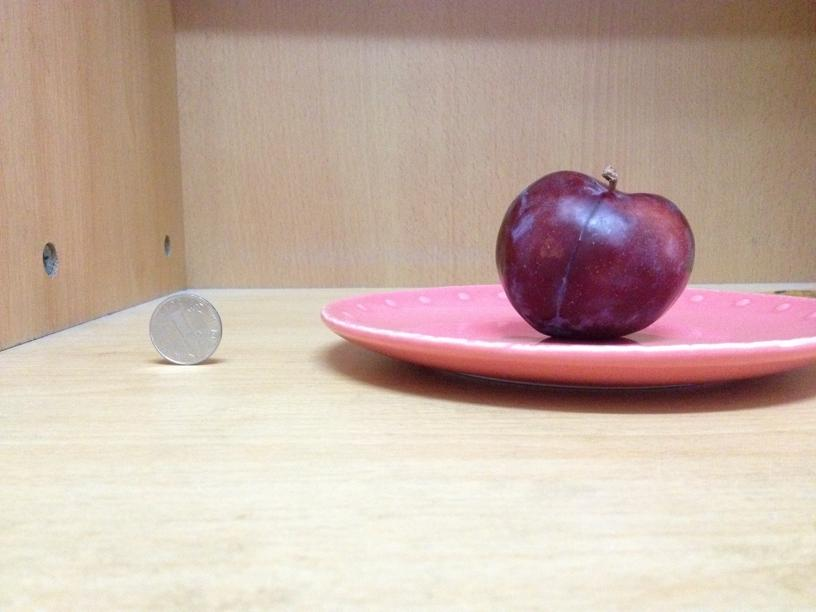coin: (148, 292, 222, 366)
plum: (492, 170, 694, 339)
